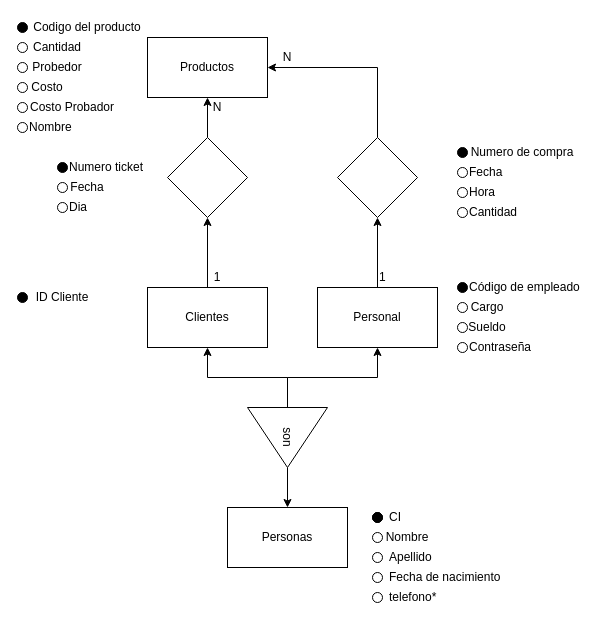
This 615x624 diagram has some shape labels left out. The shapes that lost their labels are listed below. From the top down, each one's centre as x and y in pixels, then its label:
At pixel 207 177: "Compra".
At pixel 377 177: "Ingresa".
